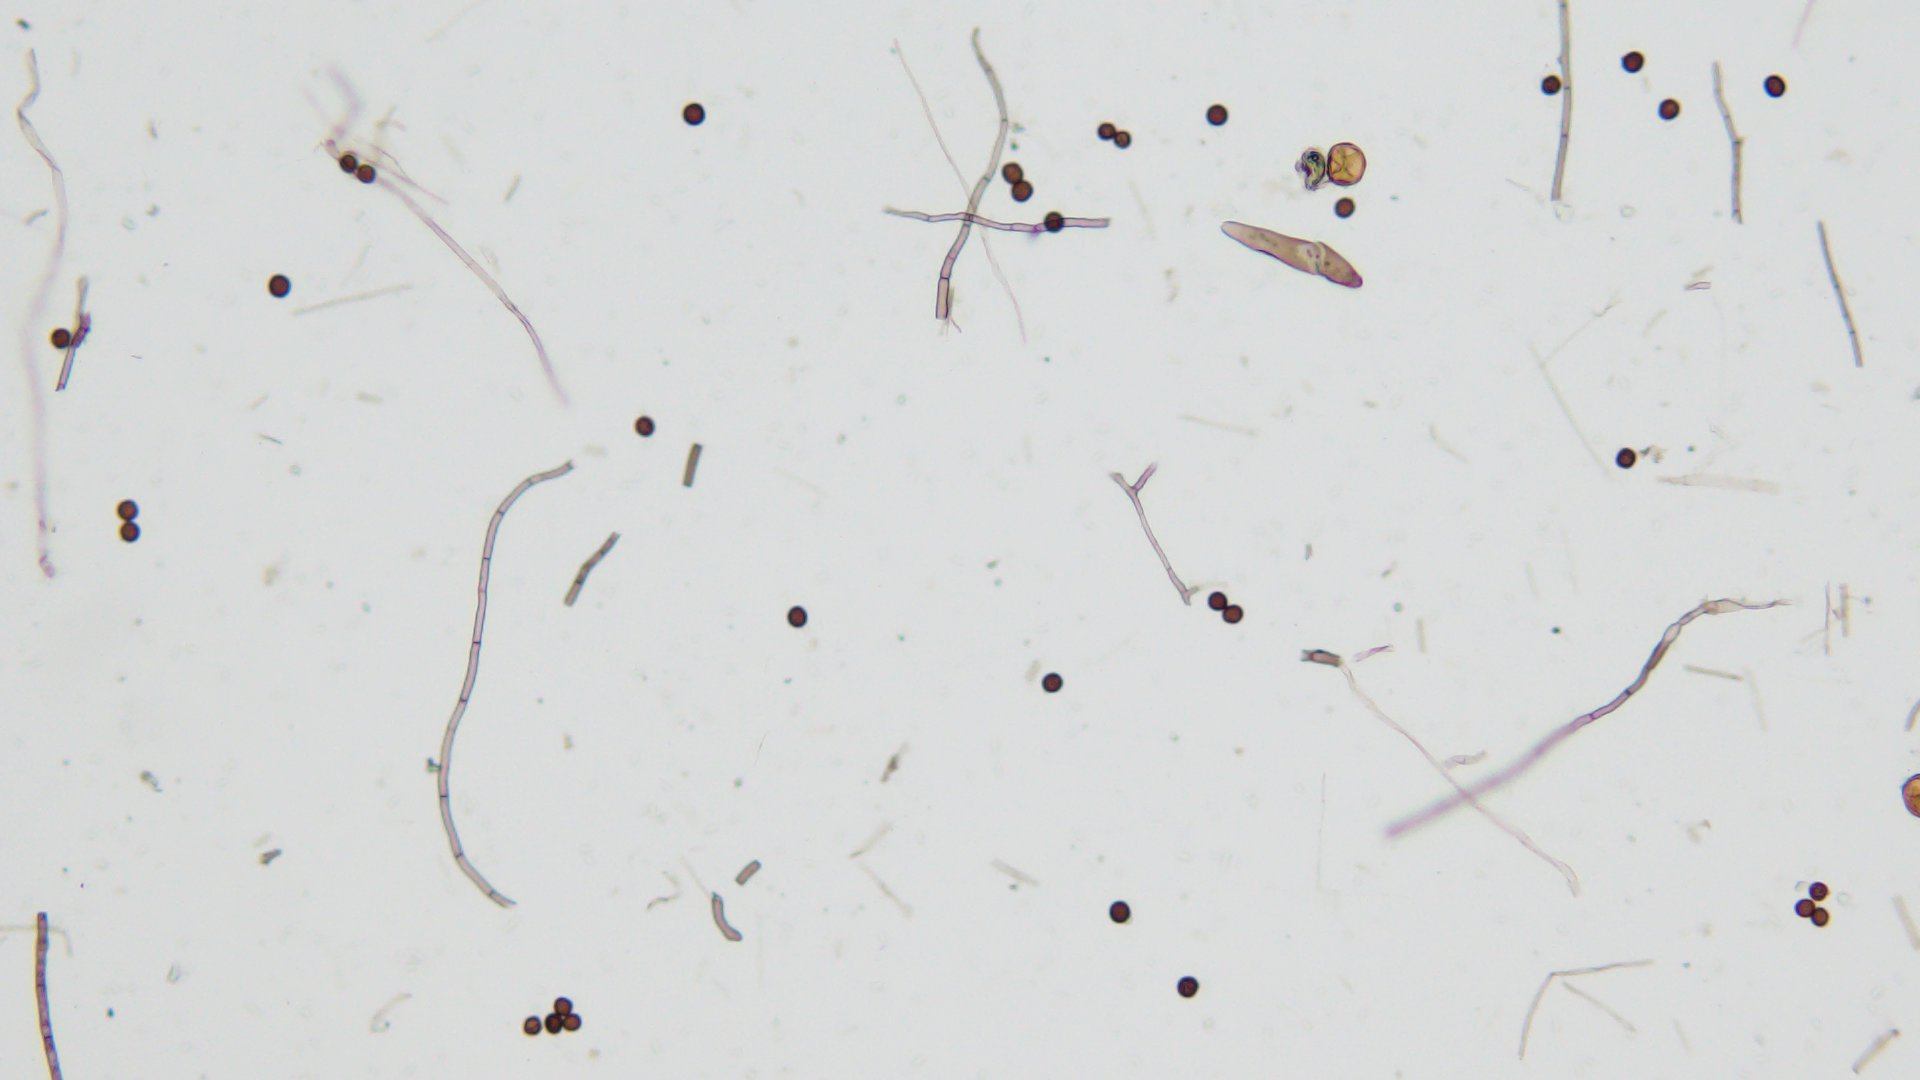dbb_spore: (1220, 220, 1364, 290)
shs_spore: (262, 276, 294, 301), (1007, 181, 1035, 204), (1174, 976, 1197, 1000), (680, 102, 705, 124), (1622, 50, 1644, 75), (1108, 901, 1131, 923), (1043, 211, 1065, 233), (1658, 98, 1681, 119), (1762, 76, 1785, 98), (1040, 673, 1065, 692), (120, 522, 142, 543), (1615, 447, 1636, 469), (1207, 105, 1229, 125), (1222, 603, 1242, 625), (50, 328, 70, 349), (787, 607, 808, 626), (553, 996, 574, 1015), (1095, 123, 1117, 141), (636, 414, 654, 436), (1000, 164, 1023, 181), (338, 156, 357, 175), (357, 166, 378, 185), (1209, 592, 1228, 612), (1795, 899, 1815, 918), (117, 501, 138, 518), (545, 1013, 562, 1034), (1807, 882, 1828, 899), (524, 1017, 542, 1035), (563, 1013, 582, 1031), (1811, 910, 1829, 928), (1114, 135, 1134, 152), (1542, 76, 1561, 94)
xb_spore: (1327, 138, 1367, 190), (1335, 198, 1357, 218)
